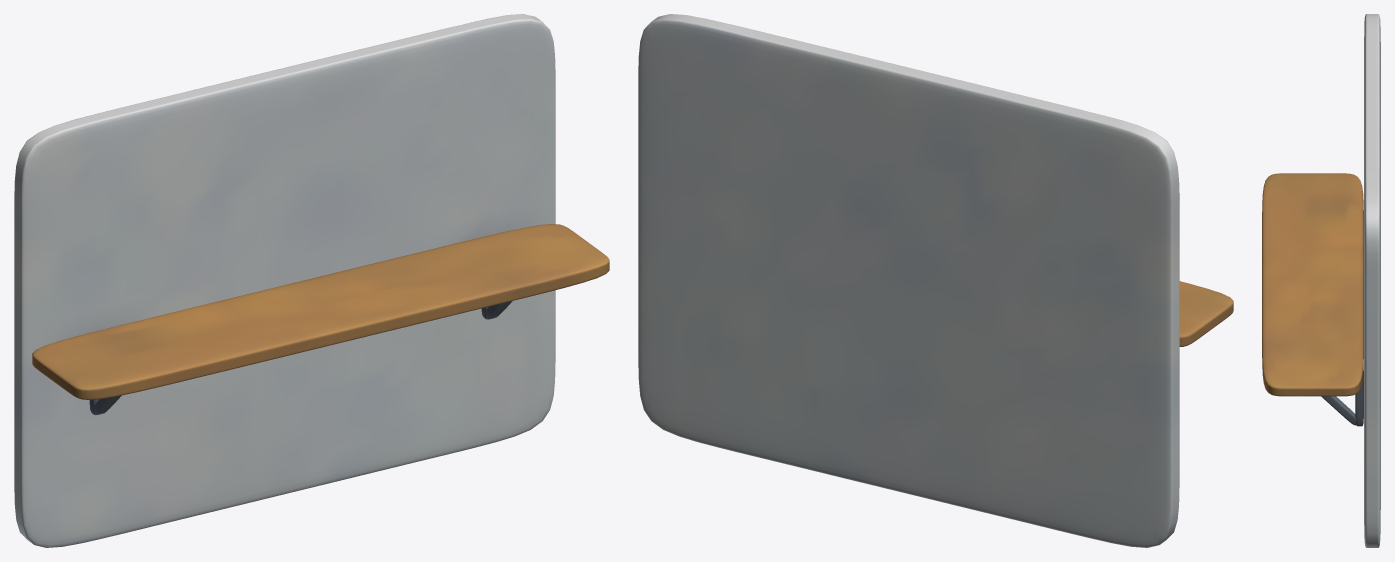
File: lab-backdrop.glb
3 renders of one model, left to right at view 1: azimuth 30°, elevation 25°; view 2: azimuth 150°, elevation 25°; view 3: azimuth 270°, elevation 25°, orthographic. The views are drawn at different scales.
Parts seen in each view (by area): view 1: lab-backdrop-wall, lab-backdrop-shelf; view 2: lab-backdrop-wall, lab-backdrop-shelf; view 3: lab-backdrop-shelf, lab-backdrop-wall, lab-backdrop-brackets.
Part boxes in pixels (left/top/right/bottom): lab-backdrop-wall: left=14, top=14, right=555, bottom=547; lab-backdrop-shelf: left=32, top=224, right=609, bottom=399; lab-backdrop-wall: left=638, top=14, right=1179, bottom=547; lab-backdrop-shelf: left=1179, top=281, right=1233, bottom=346; lab-backdrop-shelf: left=1262, top=173, right=1363, bottom=396; lab-backdrop-wall: left=1364, top=14, right=1380, bottom=547; lab-backdrop-brackets: left=1321, top=370, right=1363, bottom=426.
Size of what is drawn, in the model's own units: 60 by 45 by 14.
